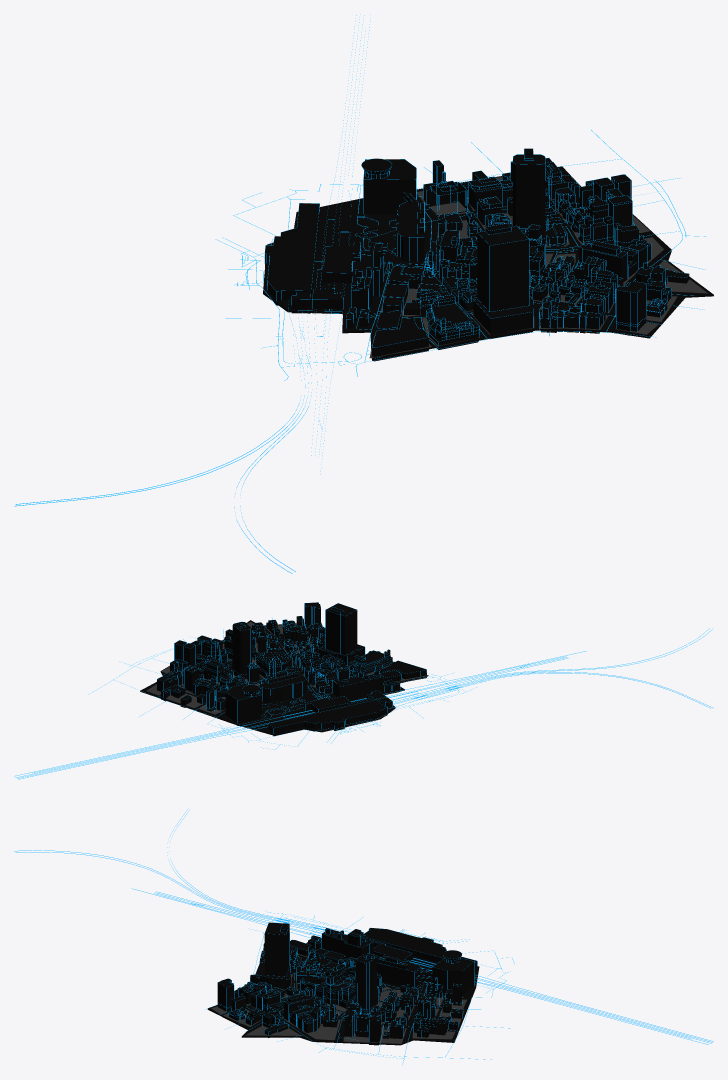
File: Kashiwa_3Dmap.fbx
The picture shows the model from 3 angles, top to bottom: view 1: azimuth 30°, elevation 25°; view 2: azimuth 150°, elevation 25°; view 3: azimuth 270°, elevation 25°; orthographic projection. The views are drawn at different scales.
Visible parts, largest first — view 1: Areas:building, plane, Areas:building.001, space, Ways:highway, Ways:railway, Plane.001; view 2: Areas:building, Ways:railway, Areas:building.001, plane, space, Ways:highway, Plane.001; view 3: Areas:building, Ways:railway, Areas:building.001, plane, space, Ways:highway.
Part boxes in pixels (box(x1,y1,x2,y2)): Areas:building: box(265, 148, 689, 361); plane: box(263, 166, 713, 359); Areas:building.001: box(264, 149, 688, 358); space: box(369, 174, 707, 358); Ways:highway: box(215, 130, 705, 380); Ways:railway: box(14, 14, 370, 573); Plane.001: box(355, 213, 426, 276); Areas:building: box(157, 602, 426, 736); Ways:railway: box(14, 628, 713, 779); Areas:building.001: box(157, 602, 426, 733); plane: box(140, 620, 427, 735); space: box(146, 622, 428, 714); Ways:highway: box(88, 618, 476, 749); Plane.001: box(261, 690, 336, 717); Areas:building: box(217, 922, 477, 1045); Ways:railway: box(14, 809, 713, 1044); Areas:building.001: box(220, 922, 477, 1041); plane: box(207, 942, 479, 1045); space: box(211, 952, 466, 1043); Ways:highway: box(205, 910, 514, 1065).
Bounding box in the file's own units: 104741 × 11130 × 120635.
